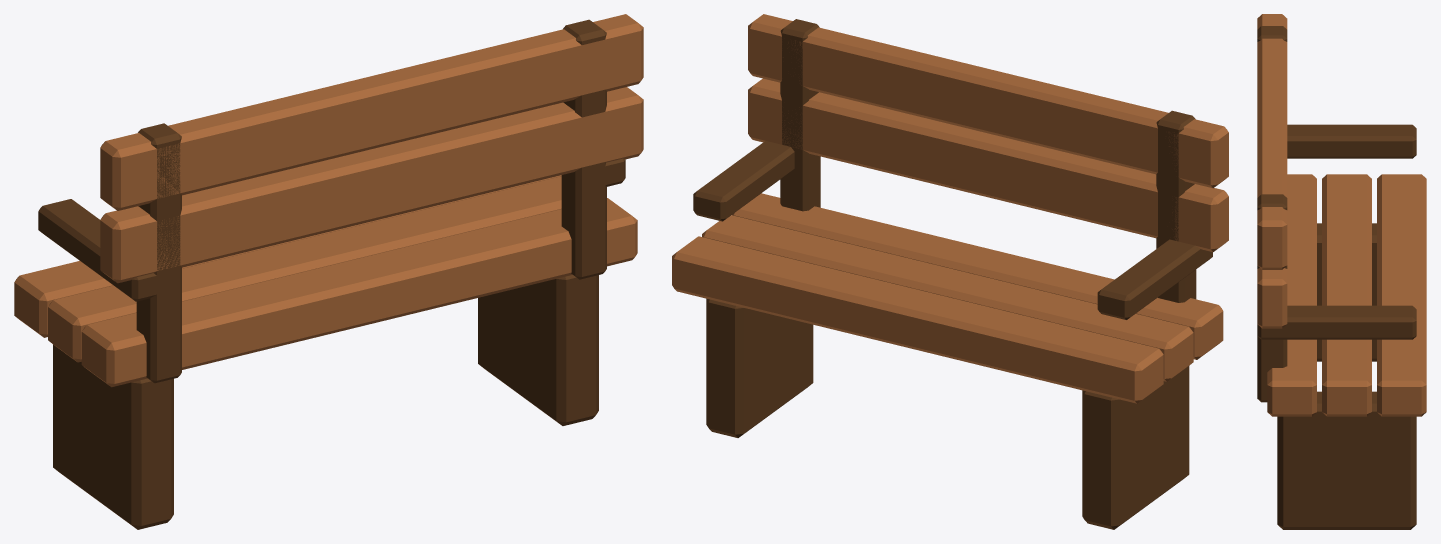
The model's file is Bench.fbx.
3 views of the same model, side by side, from view 1: azimuth 30°, elevation 25°; view 2: azimuth 150°, elevation 25°; view 3: azimuth 270°, elevation 25° (orthographic). The views are drawn at different scales.
Parts seen in each view (by area): view 1: Seat, Leg; view 2: Seat, Leg; view 3: Seat, Leg.
Boxes of the visible parts, x1,y1,x2,y2 form: Seat: (14,14,643,387); Leg: (38,19,625,529); Seat: (672,14,1228,403); Leg: (693,19,1212,529); Seat: (1257,14,1426,416); Leg: (1257,26,1416,529).
Size of the model in its own units: 5 by 3.6 by 1.7.
